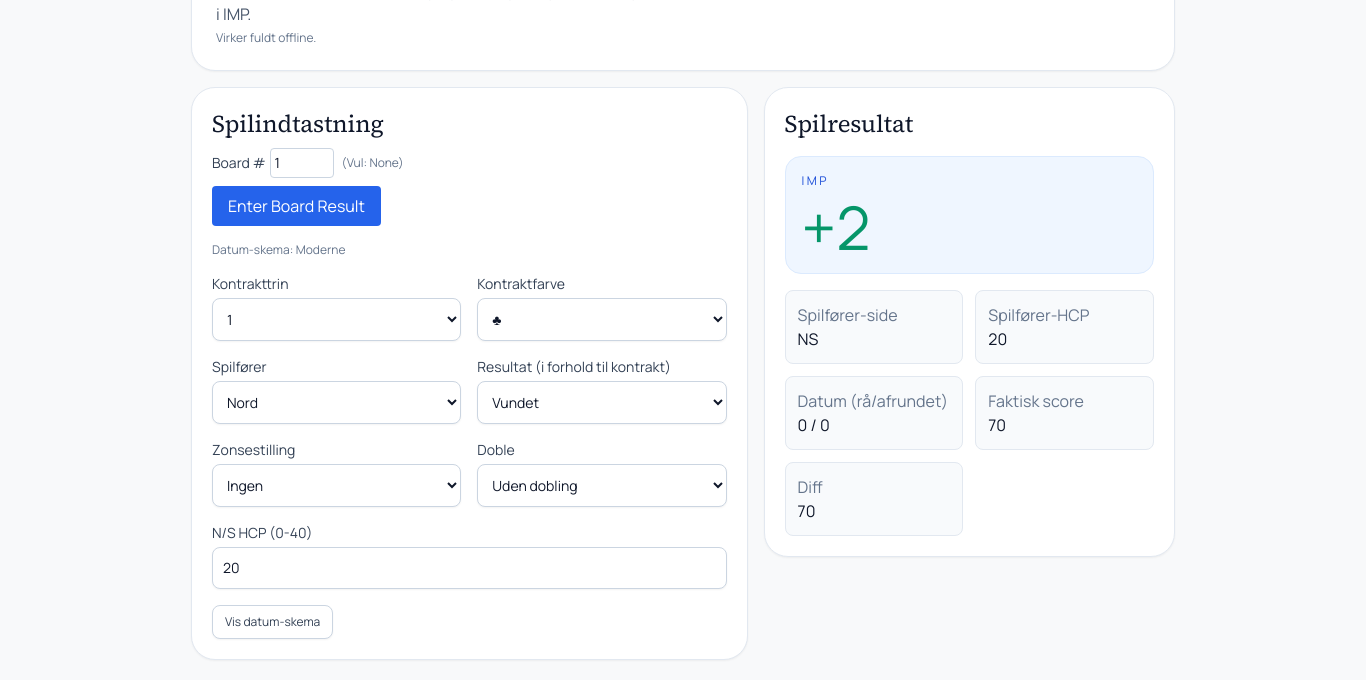
Test: BoardEntry › shows validation error for invalid HCP
(page scrolled)
Use test id for HCP input
Replace the text in the number field with test id "hcp-input" with "41": (469, 568) [212, 547, 727, 589]
(page scrolled)
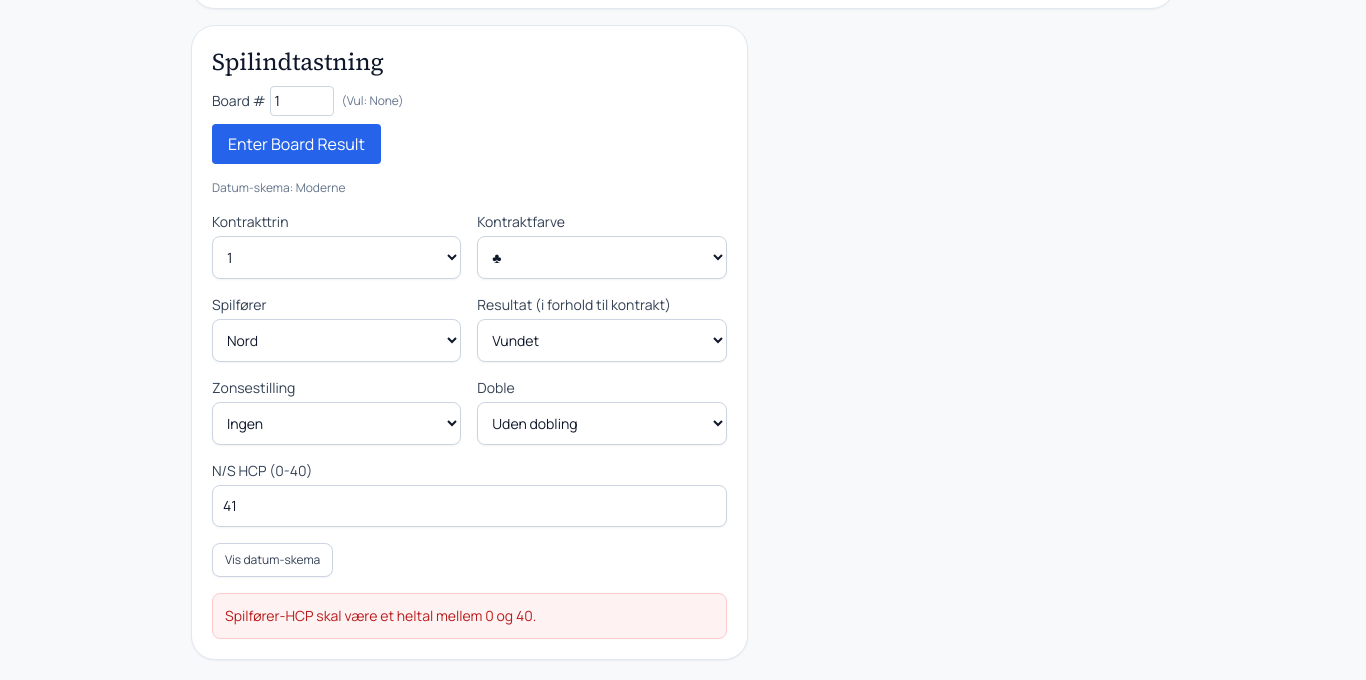
Result: the text "Spilfører-HCP skal være et heltal mellem 0 og 40." is shown at [212, 593, 727, 639]
